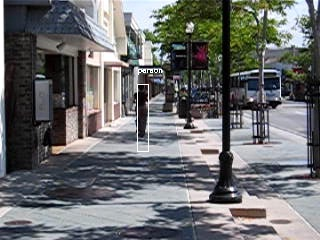person: (133, 83, 152, 140), (132, 83, 151, 140), (134, 83, 153, 140), (133, 82, 152, 139), (133, 84, 152, 141)
target_negative: (50, 11, 135, 78), (112, 102, 189, 145), (292, 25, 306, 200), (170, 162, 233, 186), (4, 126, 117, 139), (146, 62, 147, 178)
